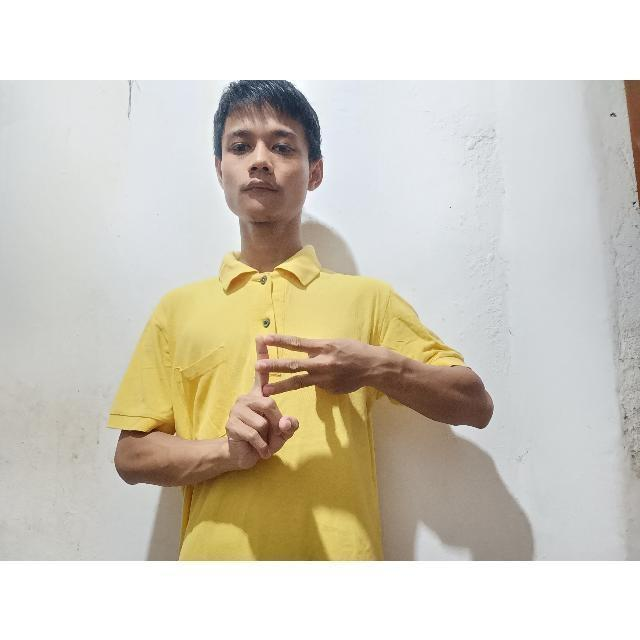B: (220, 328, 364, 458)
